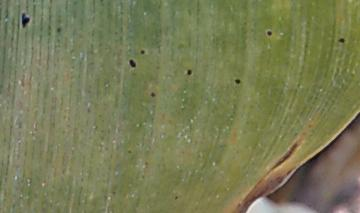tarspot: (19, 9, 31, 30), (128, 57, 138, 69), (336, 36, 346, 45), (264, 28, 274, 37), (55, 26, 63, 35), (185, 67, 192, 77), (233, 77, 241, 85), (138, 48, 146, 56), (149, 90, 155, 98), (174, 195, 178, 201)
